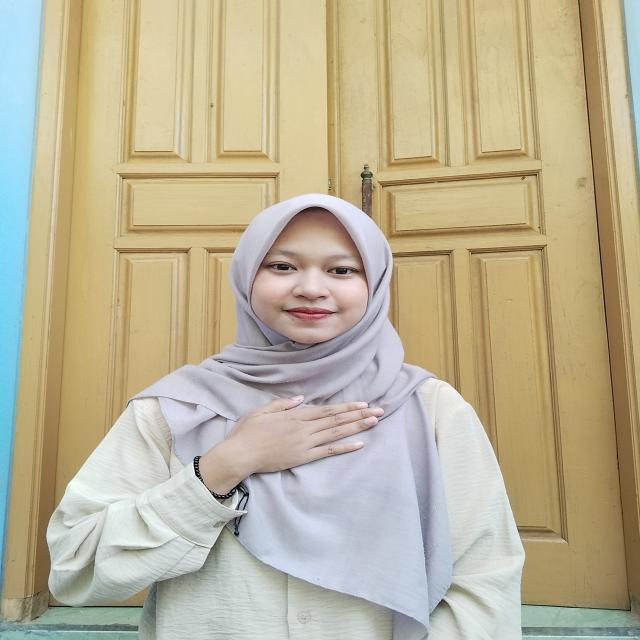tolong: (146, 388, 384, 532)
